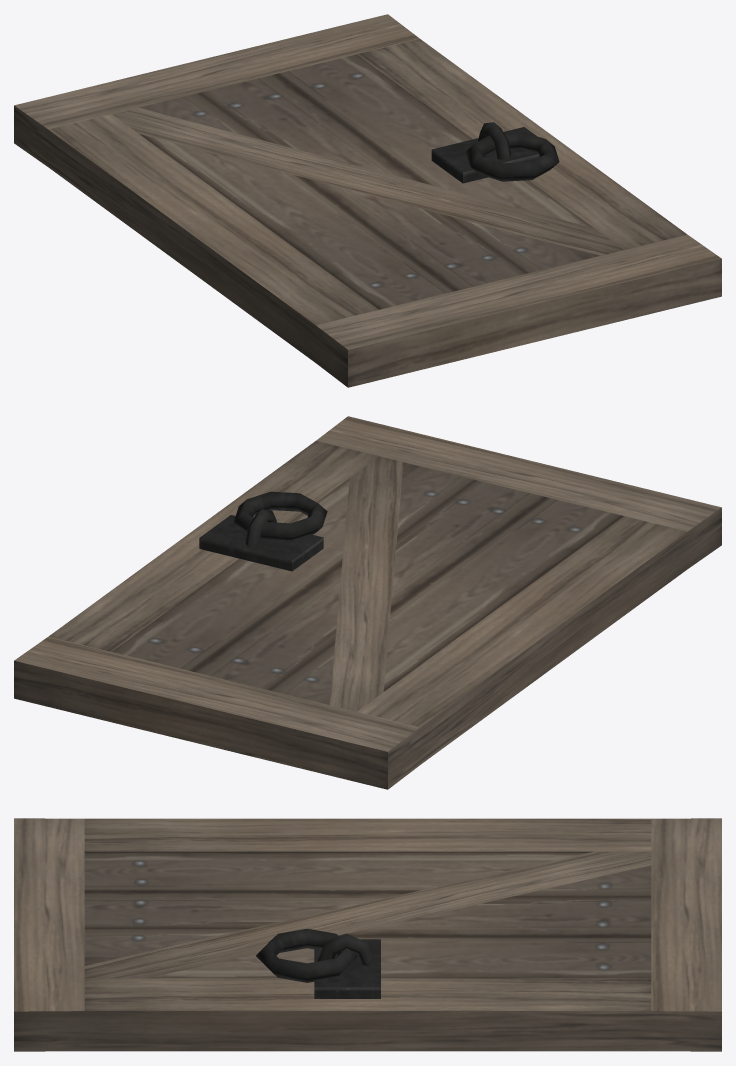
The model's file is Door_B.fbx.
The picture shows the model from 3 angles, top to bottom: view 1: azimuth 30°, elevation 25°; view 2: azimuth 150°, elevation 25°; view 3: azimuth 270°, elevation 25°; orthographic projection. The views are drawn at different scales.
Parts seen in each view (by area): view 1: Door_B; view 2: Door_B; view 3: Door_B.
Boxes of the visible parts, x1,y1,x2,y2 form: Door_B: (14,14,721,387); Door_B: (14,416,721,789); Door_B: (14,818,721,1051).
Size of the model in its own units: 1.26 by 0.2485 by 1.96.
